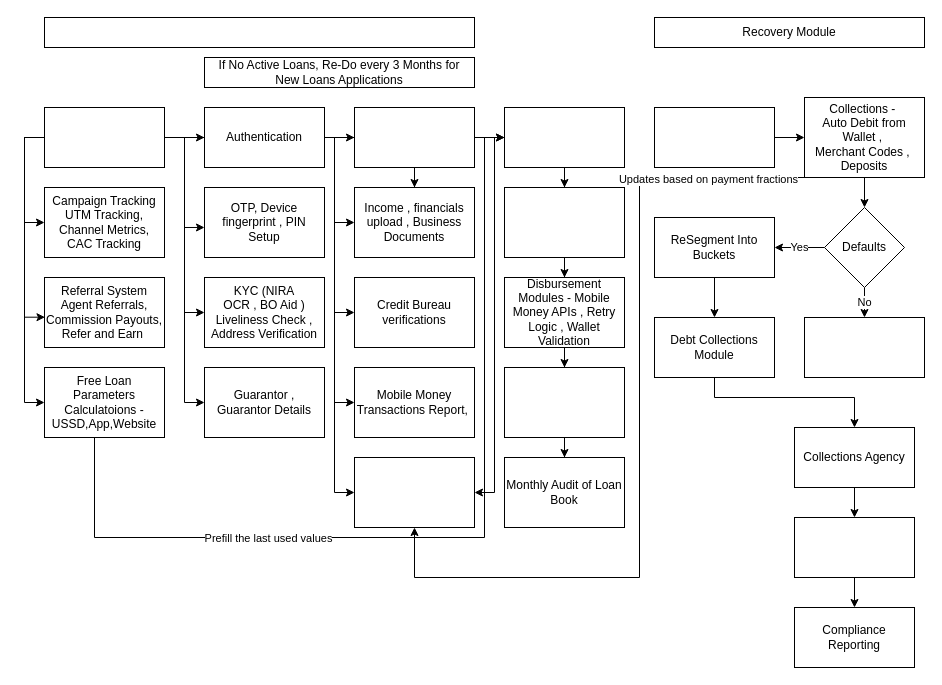
This 942x685 diagram has some shape labels left out. Here are the shapes that lost their labels. From the top down, the centre of each, then its label:
the point at 259,32: New users Modules
the point at 104,137: Acquisition and Marketing
the point at 414,137: Financials Capture
the point at 564,137: EMI , Principle Amount , Tenure by the User
the point at 714,137: Notifications - Push , SMS , Whatsapp , IVR Calls
the point at 564,222: Agreement Signing, OTP Verification, Verification Modules.
the point at 864,347: Update Loan book and Credit Reports
the point at 564,402: Add To loan book , Notify Central Authorities.
the point at 414,492: Loan Eligibility, Risk and Interest Engines
the point at 854,547: Scheduling and Collections
